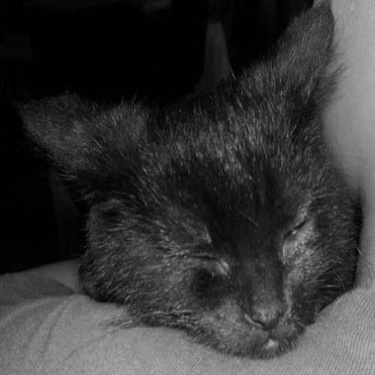cat: (14, 2, 358, 357)
